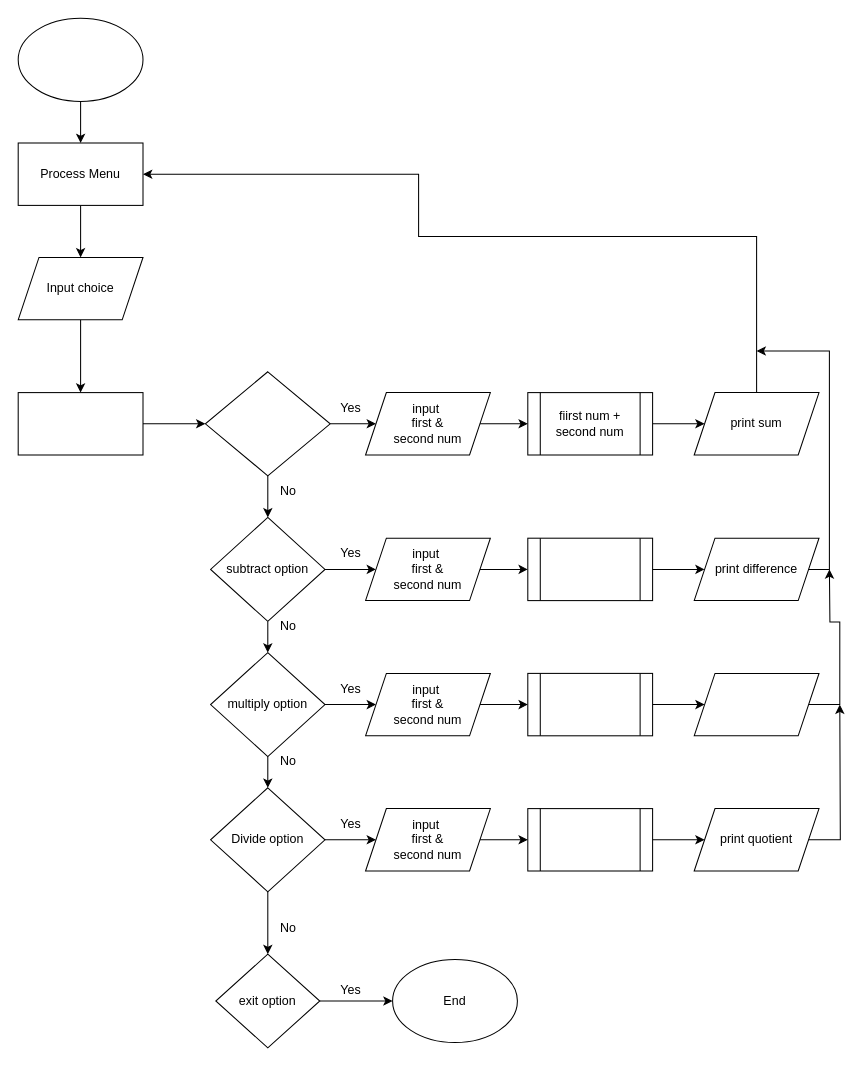
Image size: 867x1066. Some labels were removed from this diagram. The shapes that lost their labels are listed below. From the top down, each one's centre as x and y in pixels, then its label:
(80,59): Start
(80,423): Read Choice
(267,423): Add option
(590,569): first num - second num
(590,704): first num * second num
(756,704): print product
(590,839): first num / second num
